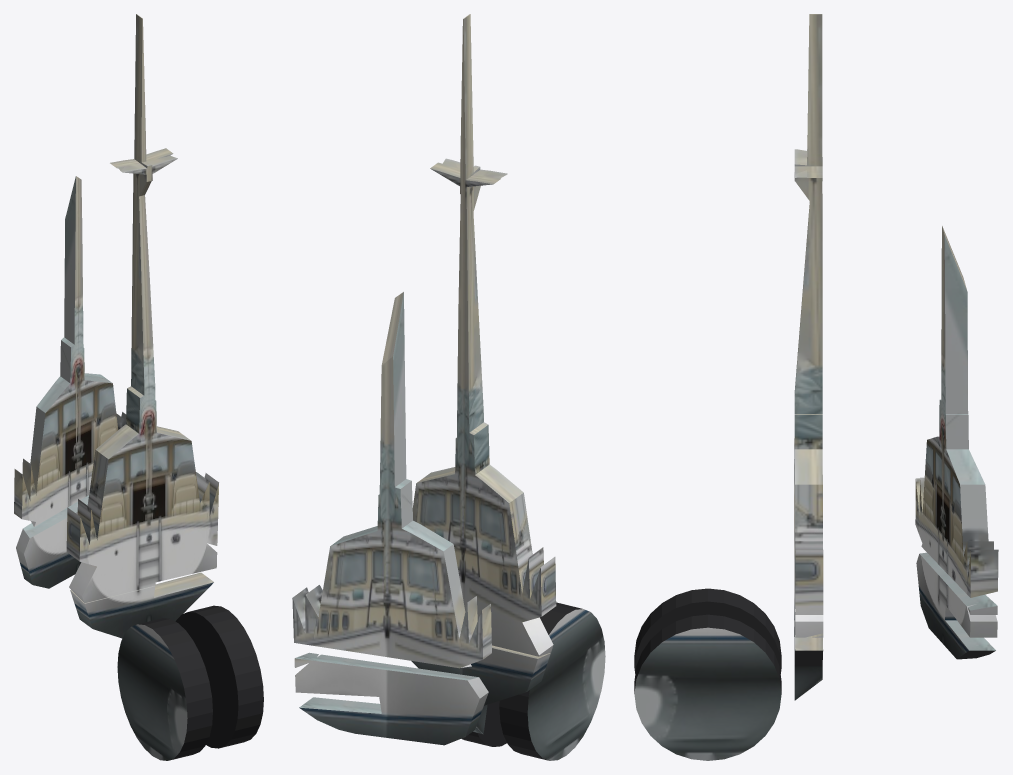
File: sailboat.glb
3 views of the same model, side by side, from view 1: azimuth 30°, elevation 25°; view 2: azimuth 150°, elevation 25°; view 3: azimuth 270°, elevation 25° (orthographic). The views are drawn at different scales.
Visible parts, largest first — view 1: sailboat, wheel_FL, wheel_FR; view 2: sailboat, wheel_FL, wheel_FR; view 3: sailboat, wheel_FR, wheel_FL.
Boxes of the visible parts, x1=… form: sailboat: x1=14, y1=14, x2=218, y2=638; wheel_FL: x1=117, y1=618, x2=212, y2=760; wheel_FR: x1=175, y1=605, x2=263, y2=748; sailboat: x1=292, y1=14, x2=556, y2=745; wheel_FL: x1=499, y1=602, x2=605, y2=760; wheel_FR: x1=461, y1=701, x2=506, y2=746; sailboat: x1=794, y1=14, x2=998, y2=700; wheel_FR: x1=634, y1=614, x2=781, y2=760; wheel_FL: x1=634, y1=588, x2=781, y2=673.
Size of the model in its own units: 2.13 by 10.09 by 4.58.
Materials: 3 (1 with a texture image).
